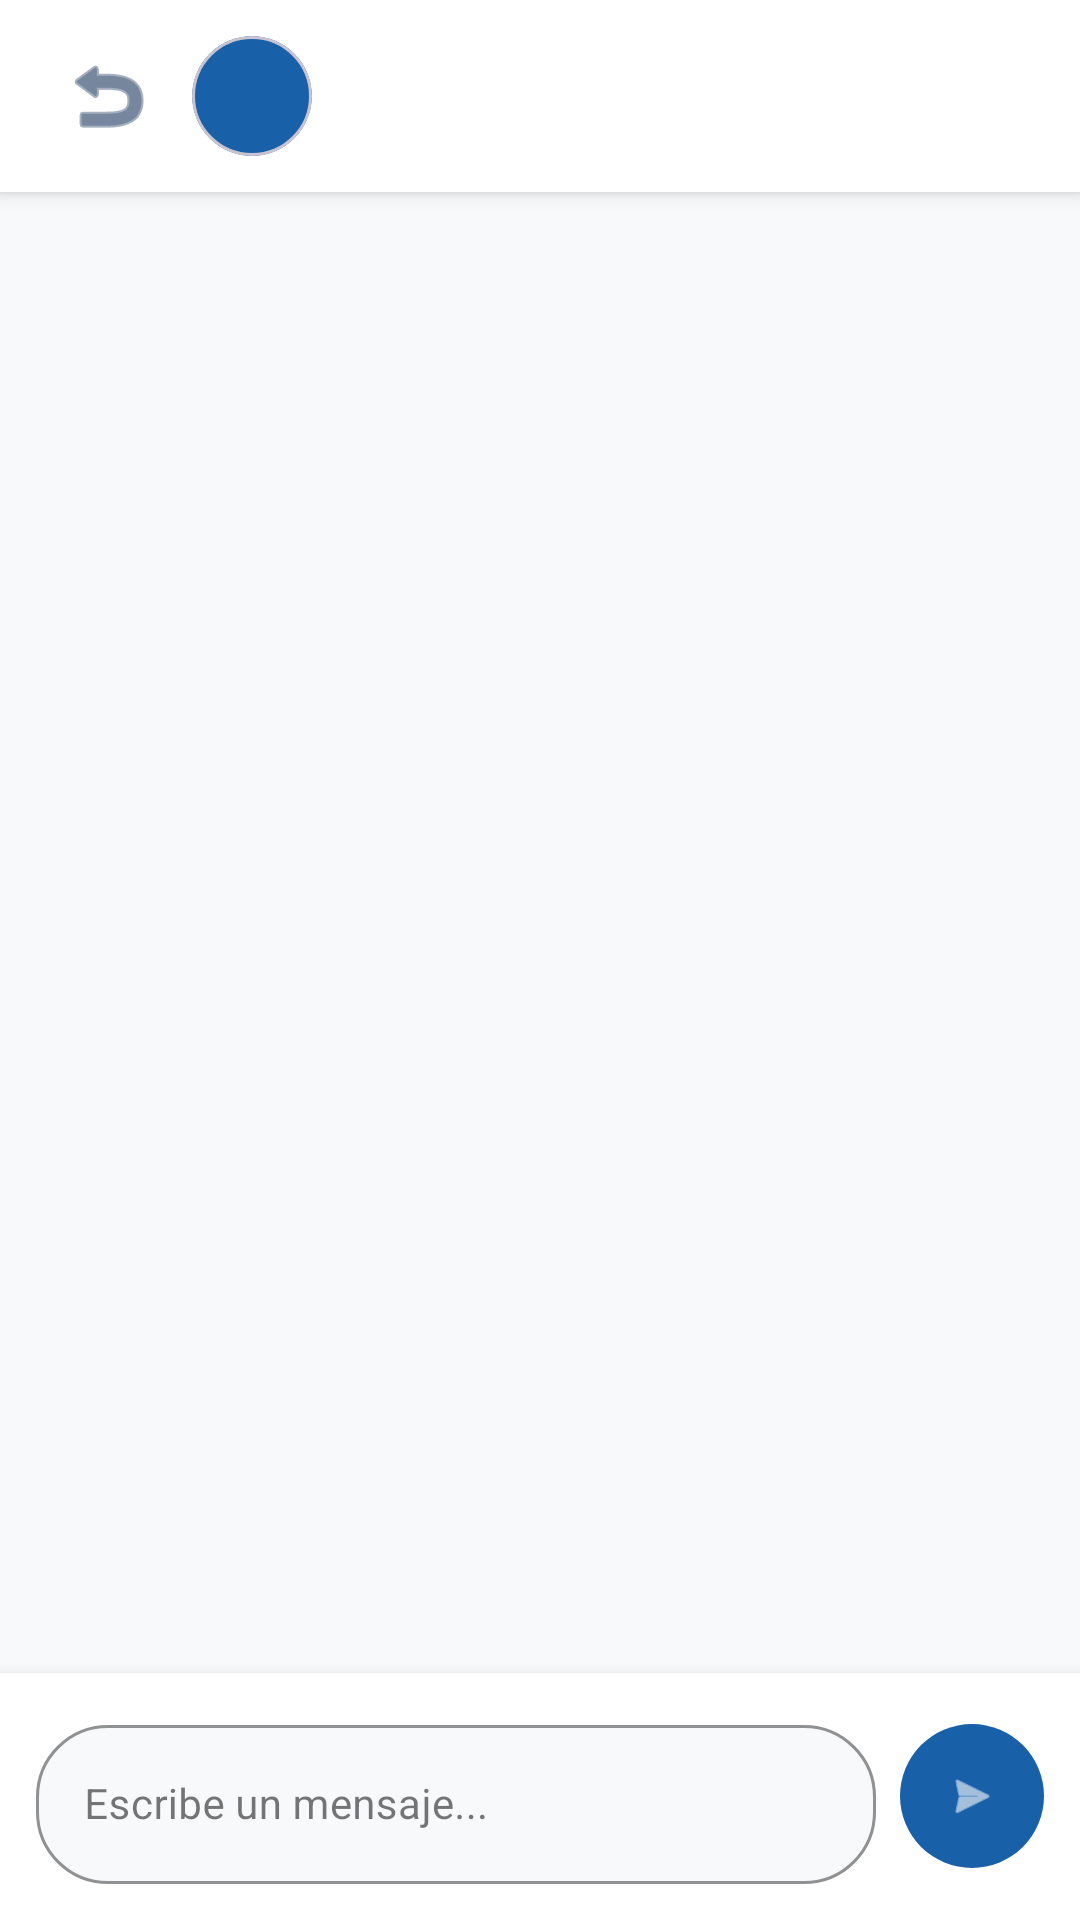

Locate icon controls on the screen. Image size 1080 x 1920, boxes as [x1, y1, x2, y2].
revert: [75, 65, 144, 128]
send: [900, 1724, 1044, 1868]
